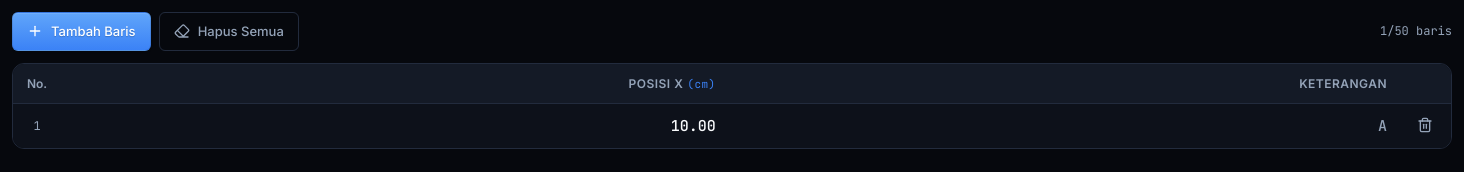
1. DataTable Keyboard Navigation & ARIA Grid › Escape cancels edit without saving changes
The image size is (1464, 172).
Focus the button named "Edit Posisi X baris 1" at (693, 126), box x1=61 y1=104 x2=728 y2=148
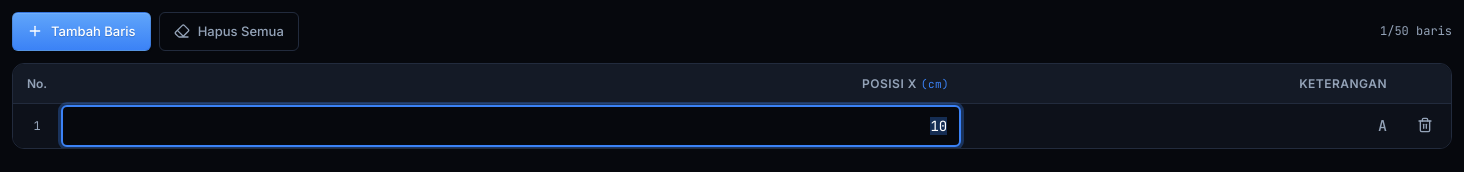
Replace the text in the field named "Nilai Posisi X baris 1" with "999" at (511, 126), box x1=61 y1=105 x2=961 y2=147
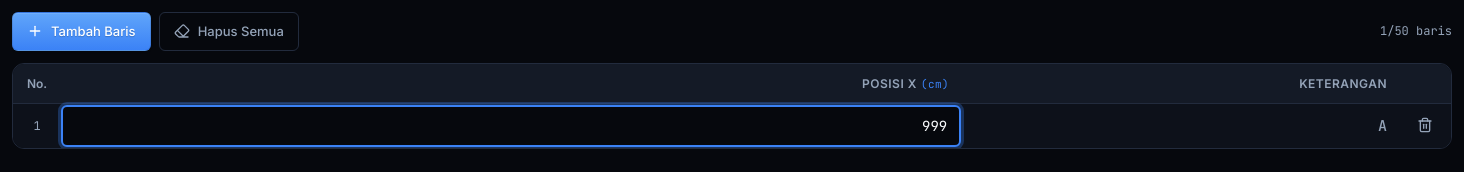
Press Escape in the field named "Nilai Posisi X baris 1", box x1=61 y1=105 x2=961 y2=147
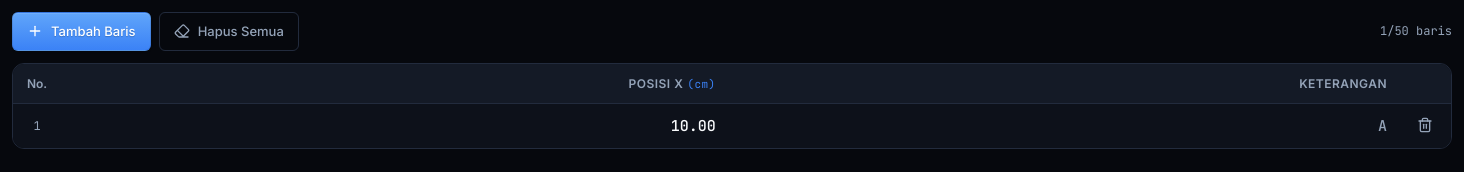
Check: the button named "Edit Posisi X baris 1" is shown, box x1=61 y1=104 x2=728 y2=148
